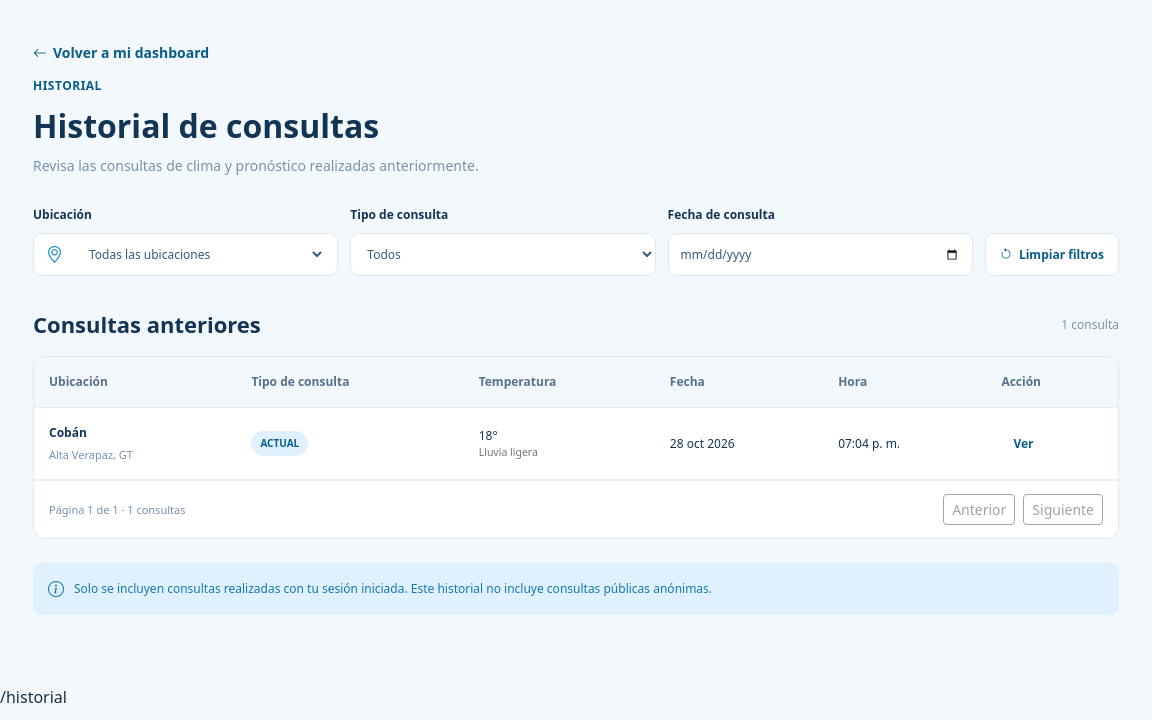
Test: M08 – historial › abre el detalle de una consulta ACTUAL y permite consultar de nuevo
Click the button "Ver": (1023, 444) [1001, 426, 1046, 460]
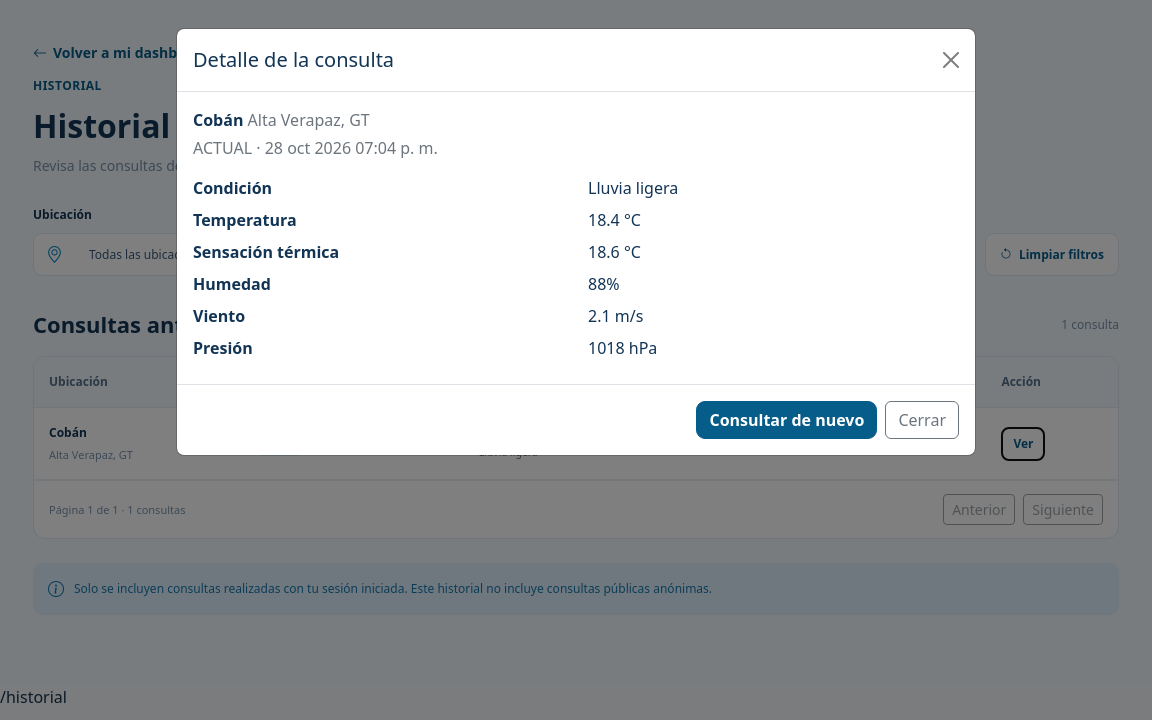
Expected: the text "18.6 °C" is shown, [588, 241, 641, 263]
Expected: the text "2.1 m/s" is shown, [588, 305, 643, 327]
Click the button "Consultar de nuevo": (787, 420) [696, 401, 877, 439]
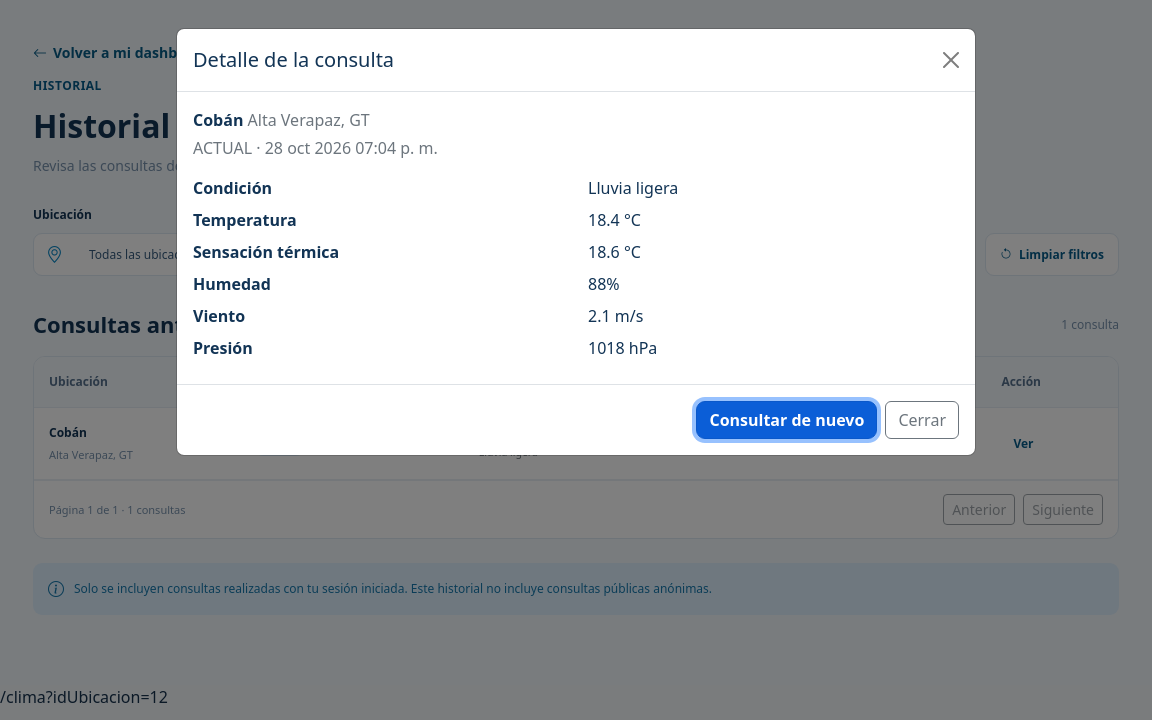
Expected: the text with test id "ruta" reads "/clima?idUbicacion=12", [0, 686, 168, 708]
